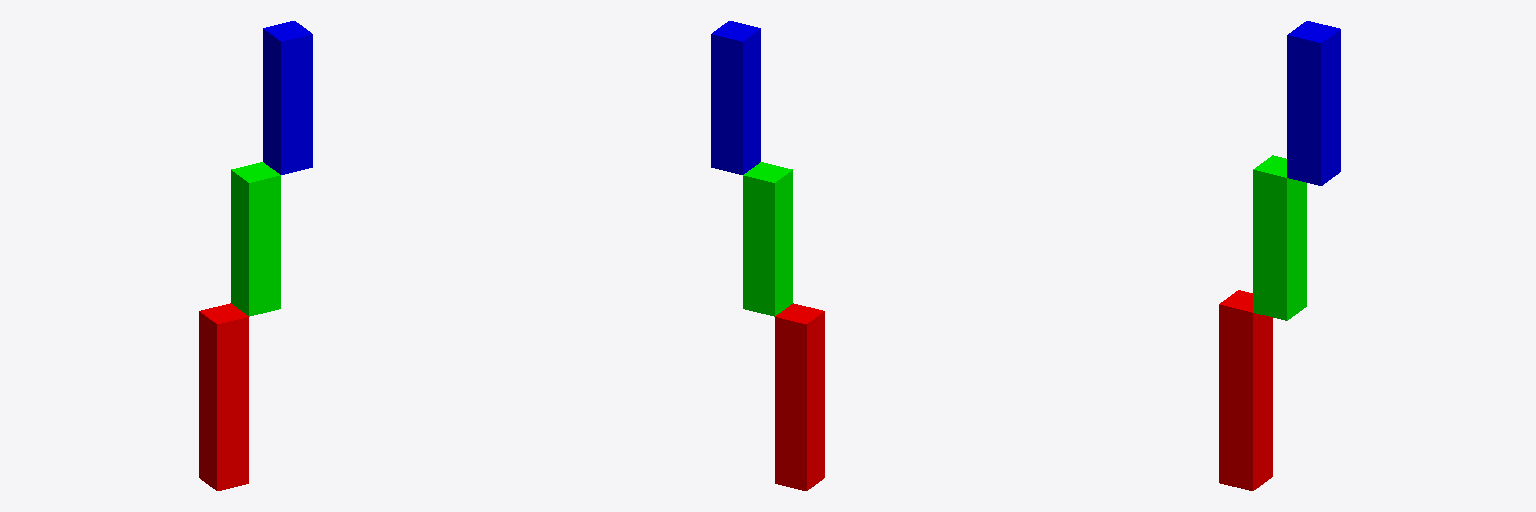
The robot description file, URDF, robot "test_robot":
<robot name="test_robot">
    <material name="red">
        <color rgba="1.0 0.0 0.0 1.0"/>
    </material>
    <material name="green">
        <color rgba="0.0 2.0 0.0 1.0"/>
    </material>
    <material name="blue">
        <color rgba="0.0 0.0 1.0 1.0"/>
    </material>

    <link name="base_link"/>

    <joint name="body1_joint" type="fixed">
        <parent link="base_link"/>
        <child link="body1_link"/>
    </joint>
    <link name="body1_link">
        <visual>
            <geometry>
                <box size="0.1 0.1 0.5"/>
            </geometry>
            <origin xyz="0 0 0.25" rpy="0 0 0"/>
            <material name="red"/>
        </visual>
    </link>
    <joint name="body2_joint" type="revolute">
        <parent link="body1_link"/>
        <child link="body2_link"/>
        <origin xyz="0.1 0 0.5" rpy="0 0 0"/>
        <limit lower="-1.5" upper="1.5" effort="0" velocity="0"/>
    </joint>
    <link name="body2_link">
        <visual>
            <geometry>
                <box size="0.1 0.1 0.4"/>
            </geometry>
            <origin xyz="0 0 0.2" rpy="0 0 0"/>
            <material name="green"/>
        </visual>
    </link>
    <joint name="body3_joint" type="revolute">
        <parent link="body2_link"/>
        <child link="body3_link"/>
        <origin xyz="0.1 0 0.4" rpy="0 0 0"/>
        <limit lower="-1.5" upper="1.5" effort="0" velocity="0"/>
    </joint>
    <link name="body3_link">
        <visual>
            <geometry>
                <box size="0.1 0.1 0.4"/>
            </geometry>
            <origin xyz="0 0 0.2" rpy="0 0 0"/>
            <material name="blue"/>
        </visual>
    </link>
</robot>

--- Facts derived from the render (not from the file) ---
3 views of the same robot in one strip: view 1: azimuth 30°, elevation 25°; view 2: azimuth 150°, elevation 25°; view 3: azimuth 330°, elevation 25° (orthographic).
Robot: test_robot — 4 links, 3 joints (2 revolute, 1 fixed); root link base_link; default pose: every joint at zero.
Links seen in each view (by area): view 1: body1_link, body2_link, body3_link; view 2: body1_link, body2_link, body3_link; view 3: body1_link, body3_link, body2_link.
Link boxes in pixels (x1,y1,x2,y2): body1_link: [199, 303, 248, 490]; body2_link: [231, 162, 280, 316]; body3_link: [263, 21, 312, 174]; body1_link: [775, 303, 824, 490]; body2_link: [743, 162, 792, 316]; body3_link: [711, 21, 760, 174]; body1_link: [1219, 290, 1272, 490]; body3_link: [1287, 21, 1340, 185]; body2_link: [1253, 155, 1306, 320].
Size in the robot's own frame: 0.3 by 0.1 by 1.3 metres.
Geometry: primitives only (box / cylinder / sphere), no mesh files.